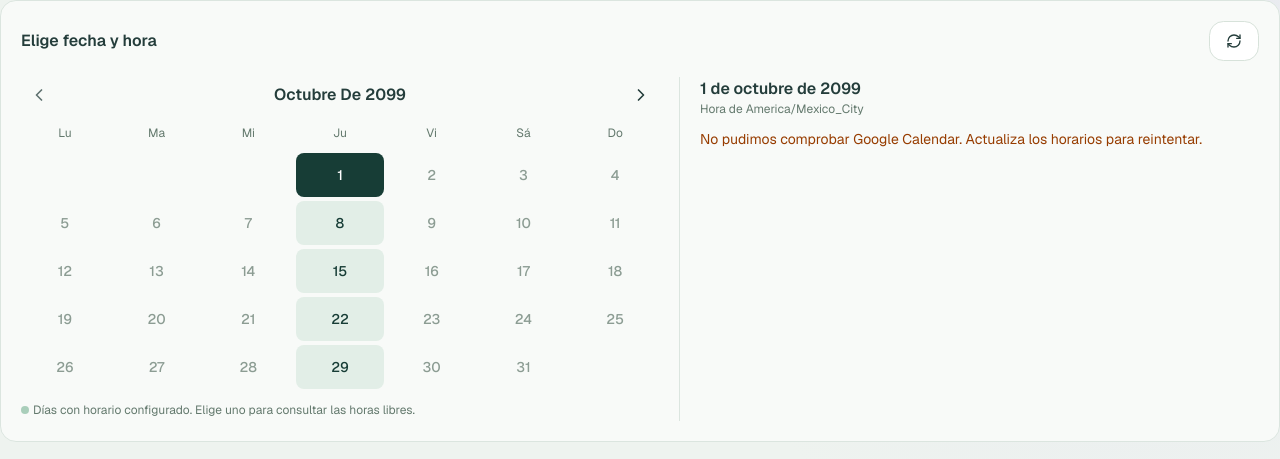
does not offer hours when Google could not be checked, and allows retrying
expect the text "No pudimos comprobar Google Calendar. Actualiza los horarios para reintentar." is shown: met, box [700, 129, 1259, 149]
expect the button "10:00" is not shown: met
Click the button named "Actualizar horarios" at (1234, 41), box [1209, 21, 1259, 61]
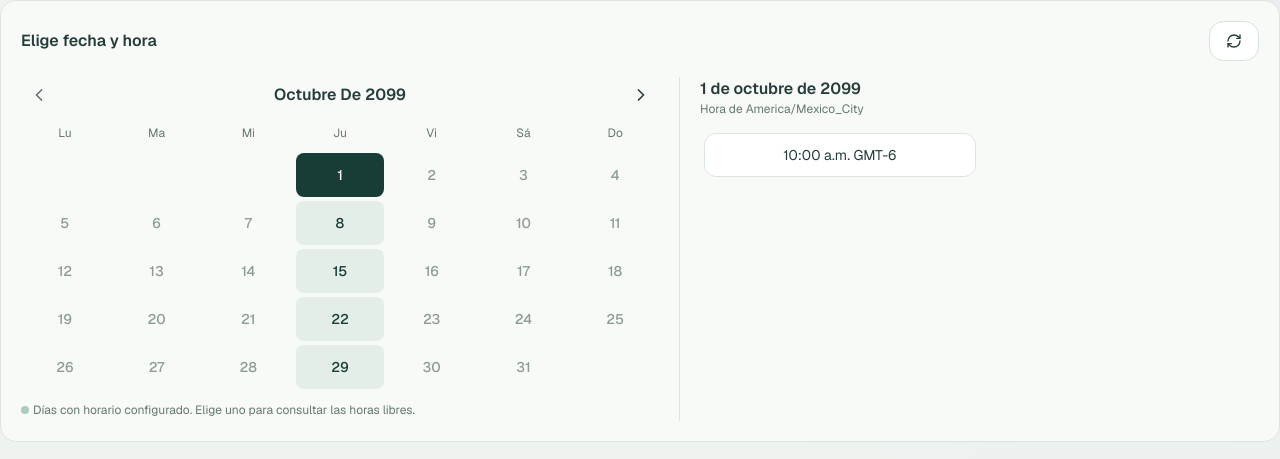
expect the button "10:00" is shown: met, box [704, 133, 976, 177]
